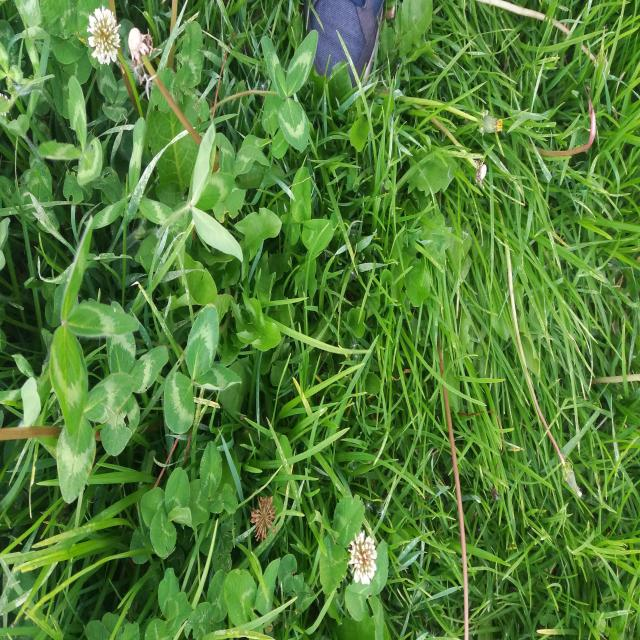Four Leaf Clover: (141, 468, 192, 558)
